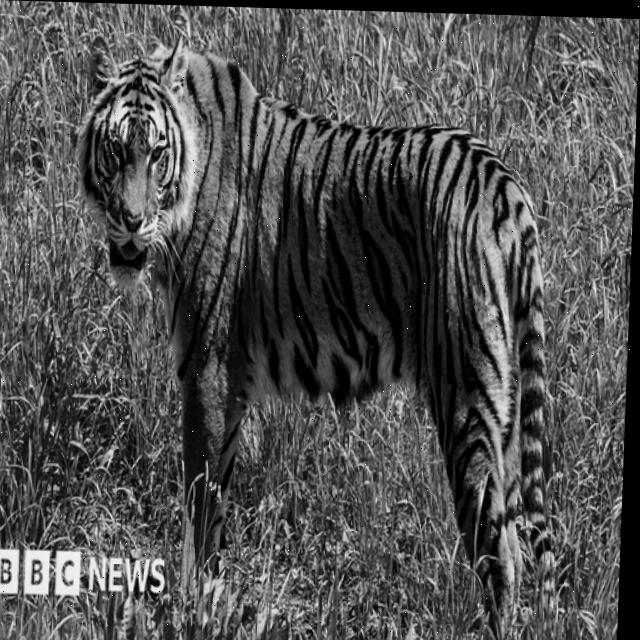Tiger: (56, 30, 579, 640)
